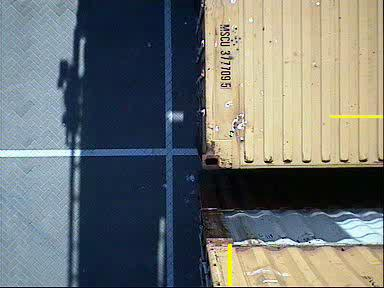groundmarker_2: (119, 66, 204, 120)
